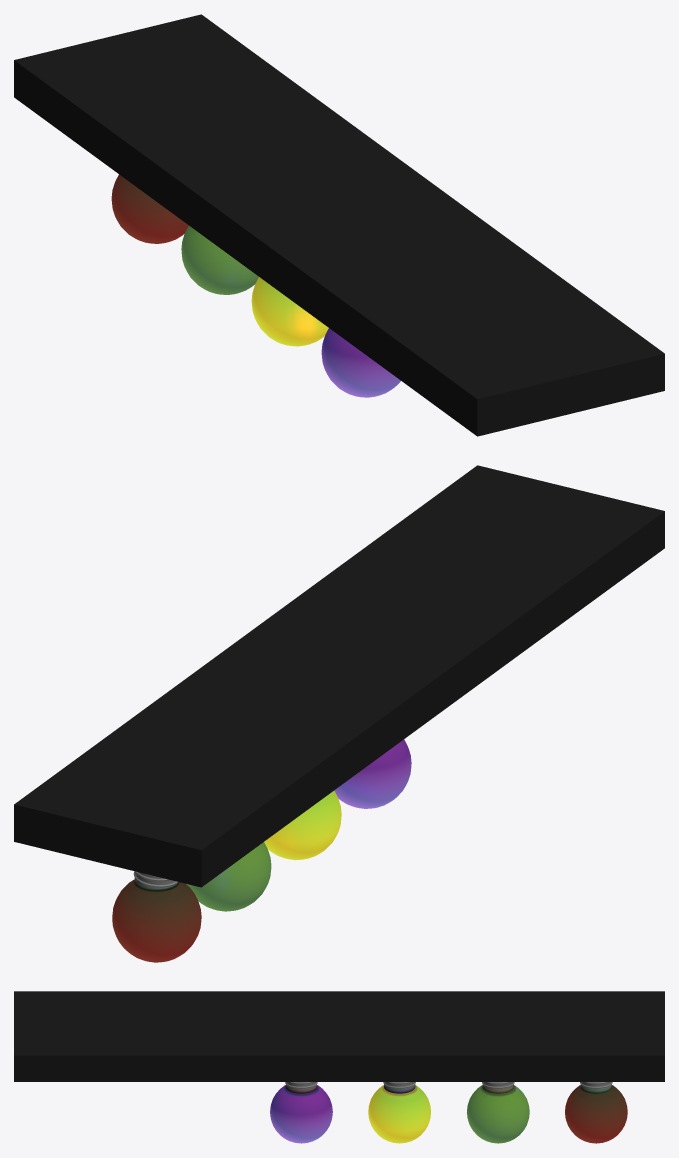
Rendered from emergency_light_bulbs.glb.
The picture shows the model from 3 angles, top to bottom: view 1: azimuth 30°, elevation 25°; view 2: azimuth 150°, elevation 25°; view 3: azimuth 270°, elevation 25°; orthographic projection. The views are drawn at different scales.
Parts seen in each view (by area): view 1: SM_Bulbs, SM_Bulbs.001, SM_Bulbs.002, SM_Bulbs.003, SM_Bulbs.004; view 2: SM_Bulbs, SM_Bulbs.002, SM_Bulbs.003, SM_Bulbs.004, SM_Bulbs.001; view 3: SM_Bulbs, SM_Bulbs.001, SM_Bulbs.002, SM_Bulbs.004, SM_Bulbs.003.
Boxes of the visible parts, x1,y1,x2,y2 form: SM_Bulbs: (14,14,664,436); SM_Bulbs.001: (321,328,400,397); SM_Bulbs.002: (111,174,188,243); SM_Bulbs.003: (181,226,258,294); SM_Bulbs.004: (251,277,328,346); SM_Bulbs: (14,465,664,887); SM_Bulbs.002: (112,871,201,962); SM_Bulbs.003: (186,842,271,911); SM_Bulbs.004: (264,791,341,860); SM_Bulbs.001: (334,739,411,808); SM_Bulbs: (14,991,664,1081); SM_Bulbs.001: (270,1082,332,1143); SM_Bulbs.002: (565,1082,627,1143); SM_Bulbs.004: (368,1082,430,1143); SM_Bulbs.003: (467,1082,529,1143).
Bounding box in the file's own units: 0.5215 × 0.4433 × 2.23.
1 material, 1 textured.
